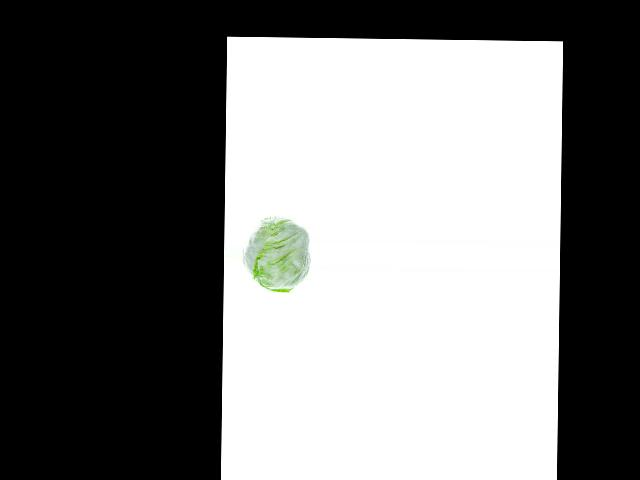lettuce: (243, 216, 307, 291)
